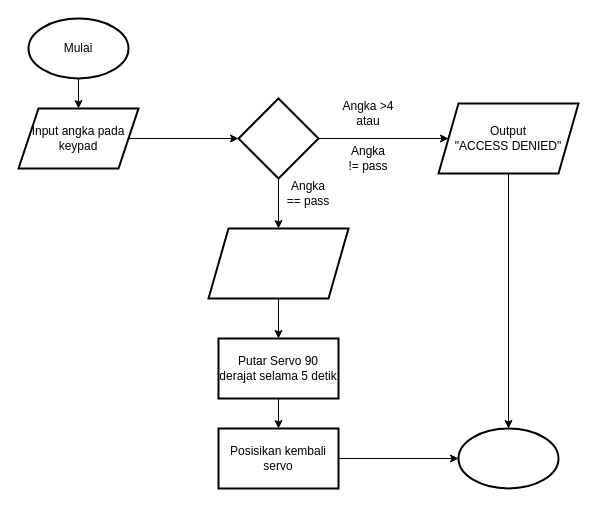
Some shapes in this 596 by 506 pixel diagram are drawn without their labels. Each missing label, with the centre of its shape:
Jika: pixel 278 138
Output "ACCESS GRANTED": pixel 278 263
Selesai: pixel 508 458
